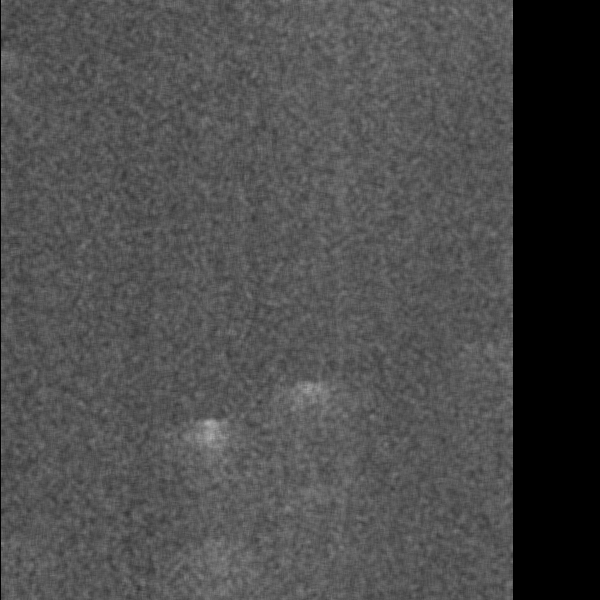spark: (382, 412, 417, 499), (226, 410, 245, 451), (499, 152, 513, 199)
